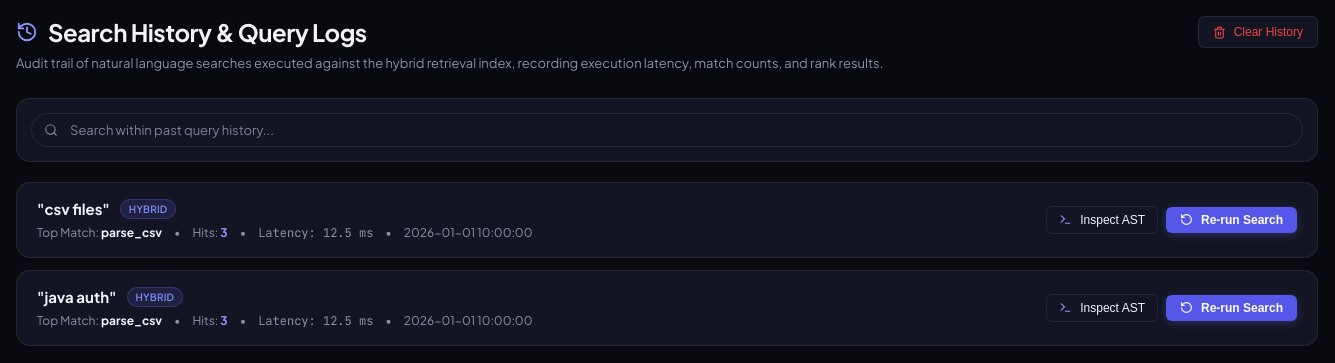
Test case: HistoryView › filters history text
Type "java" into the field named "Filter search history".
click(680, 130); type("java")  # box [70, 122, 1290, 138]
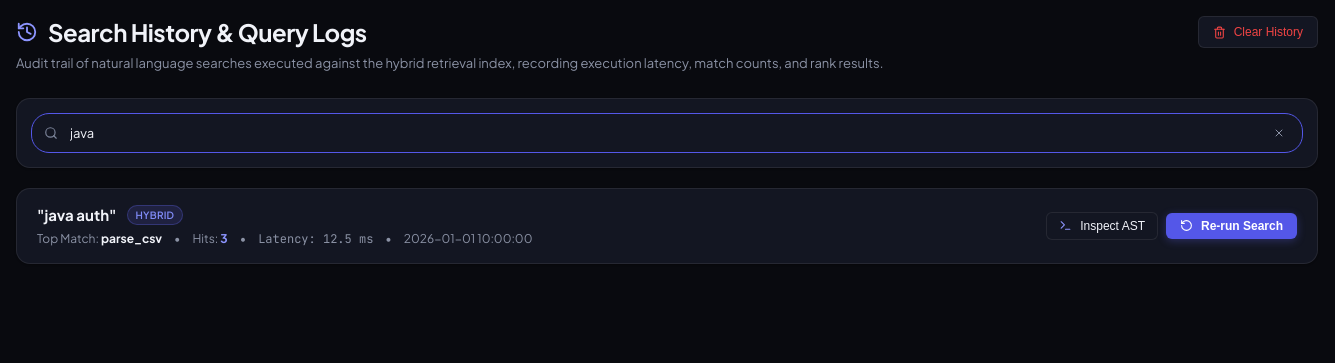
Expected: the text "\"java auth\"" is shown, [37, 205, 116, 224]
Expected: the text "csv files" is gone
